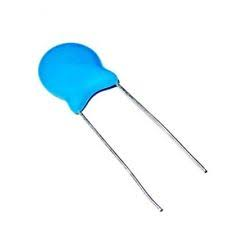ceramic capacitor: (22, 27, 140, 137)
